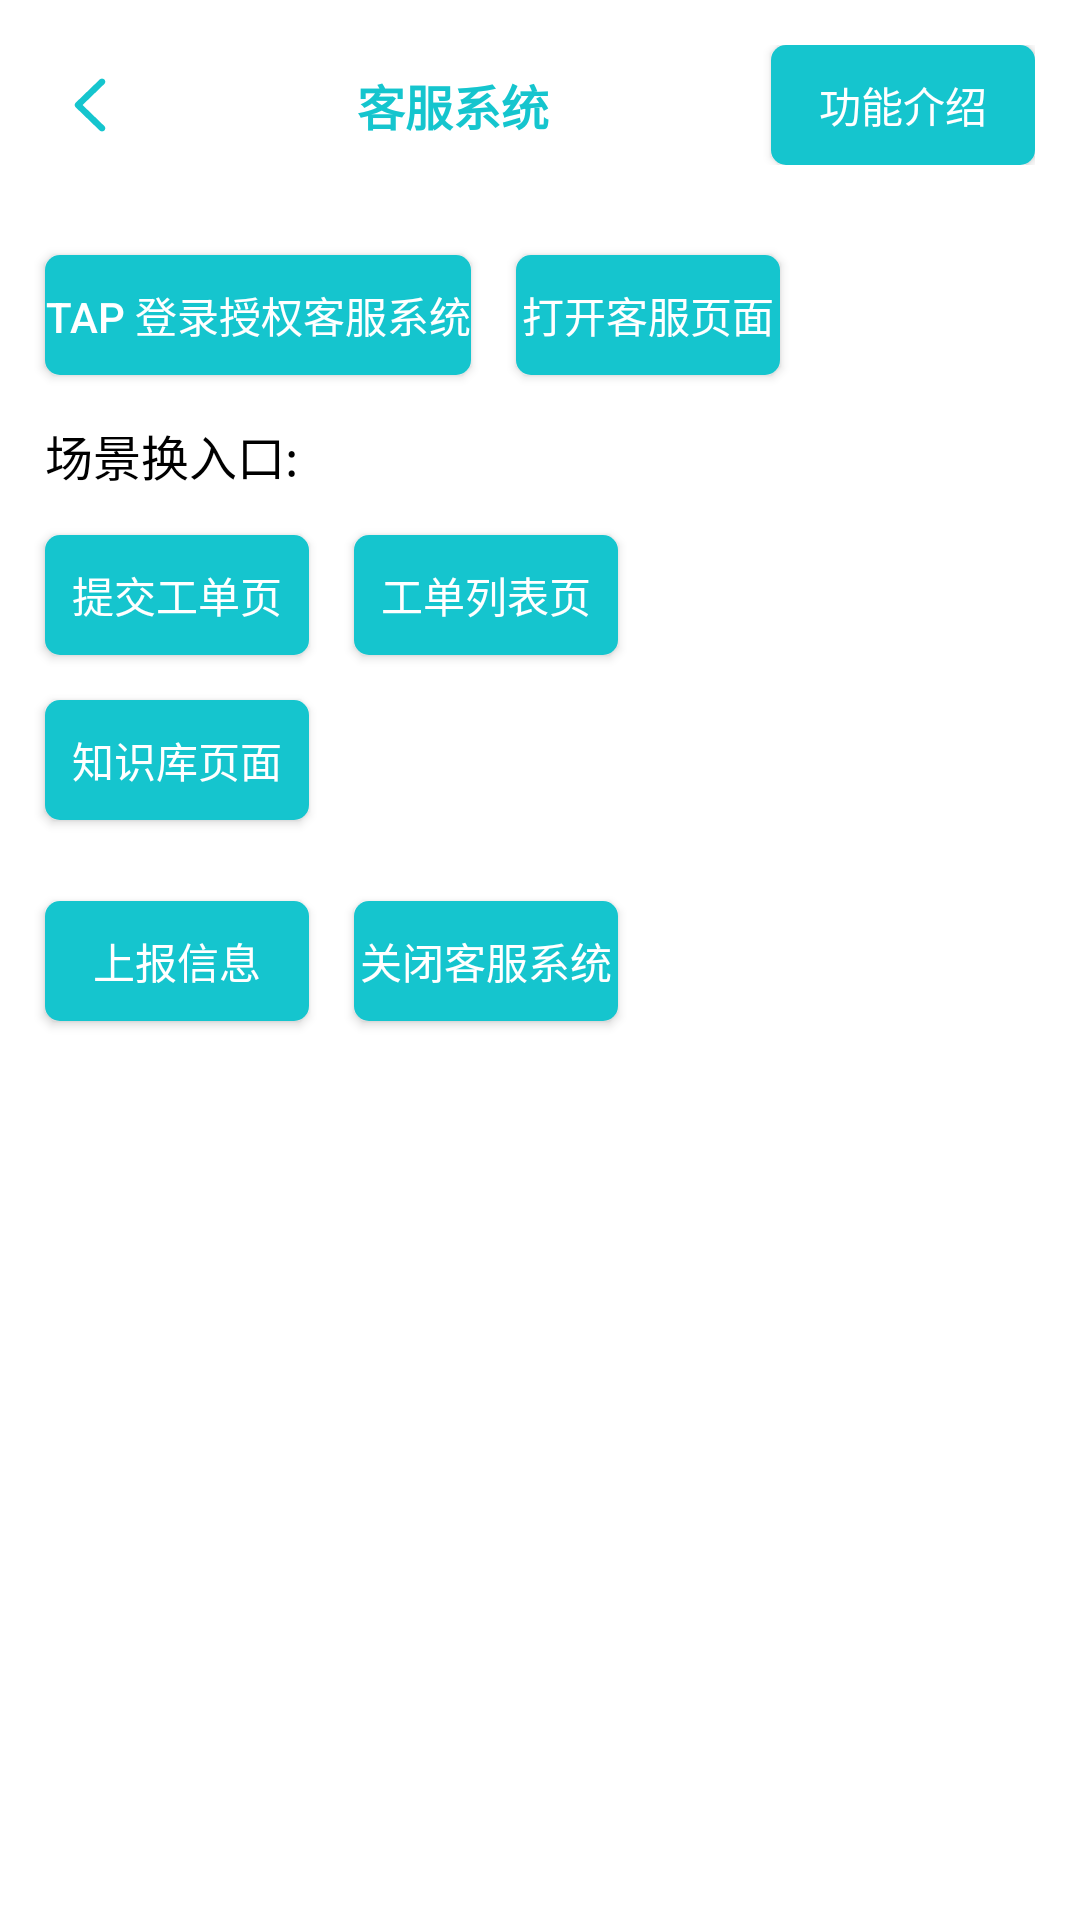

Icon bounding boxes for this 1080 × 1920 phone screenshot, format [x1, y1, x2, y2]:
back: [74, 78, 106, 132]
